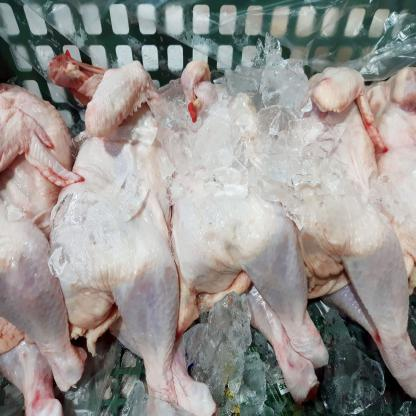chicken: (29, 44, 216, 415), (140, 46, 321, 398), (276, 58, 415, 396), (0, 76, 92, 416)
